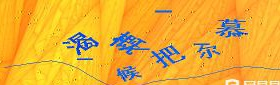chinese: (62, 31, 99, 58), (217, 17, 252, 38), (152, 48, 186, 69), (111, 30, 143, 52), (192, 42, 224, 62), (115, 62, 142, 85)
